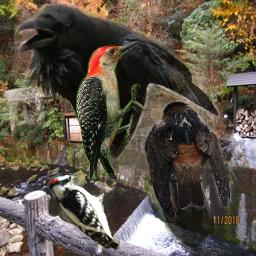Crow: (14, 4, 220, 255)
Swallow: (144, 101, 232, 221)
Woodpecker: (76, 41, 150, 179), (49, 173, 120, 250)
